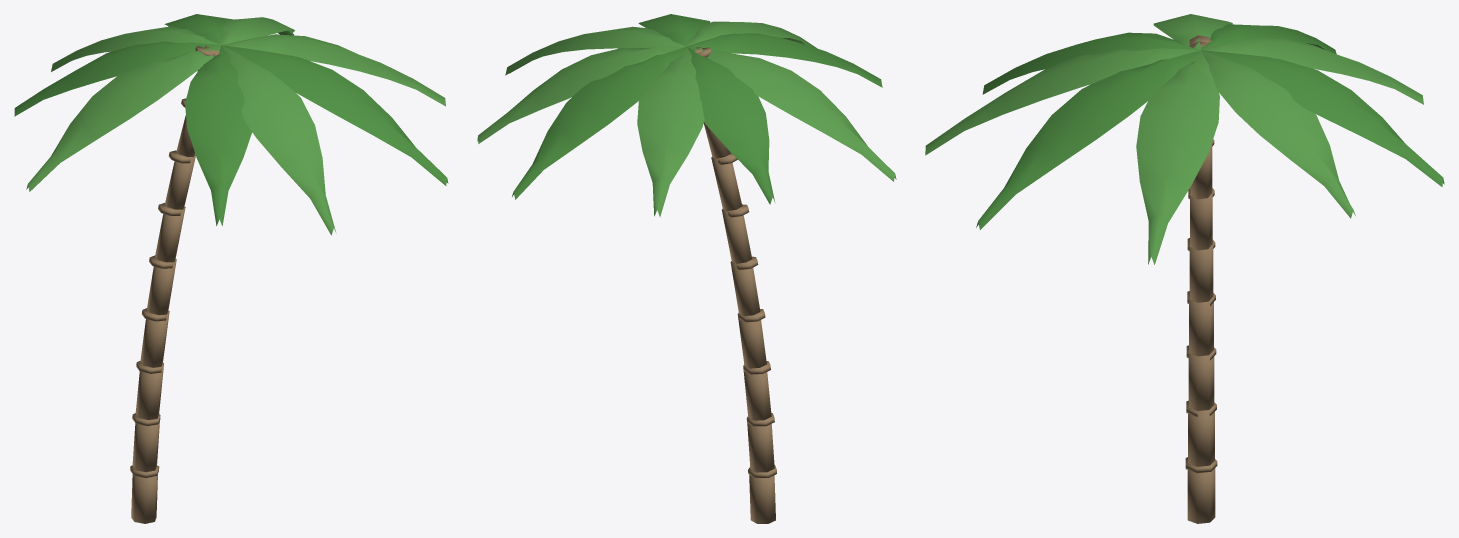
File: palm.glb
3 views of the same model, side by side, from view 1: azimuth 30°, elevation 25°; view 2: azimuth 150°, elevation 25°; view 3: azimuth 270°, elevation 25° (orthographic). The views are drawn at different scales.
Visible parts, largest first — view 1: palm; view 2: palm; view 3: palm.
Part boxes in pixels (<box>): palm: <box>14,14,448,523</box>; palm: <box>477,14,896,523</box>; palm: <box>925,14,1444,523</box>.
Size of the model in its own units: 7.85 by 8.49 by 7.8.
